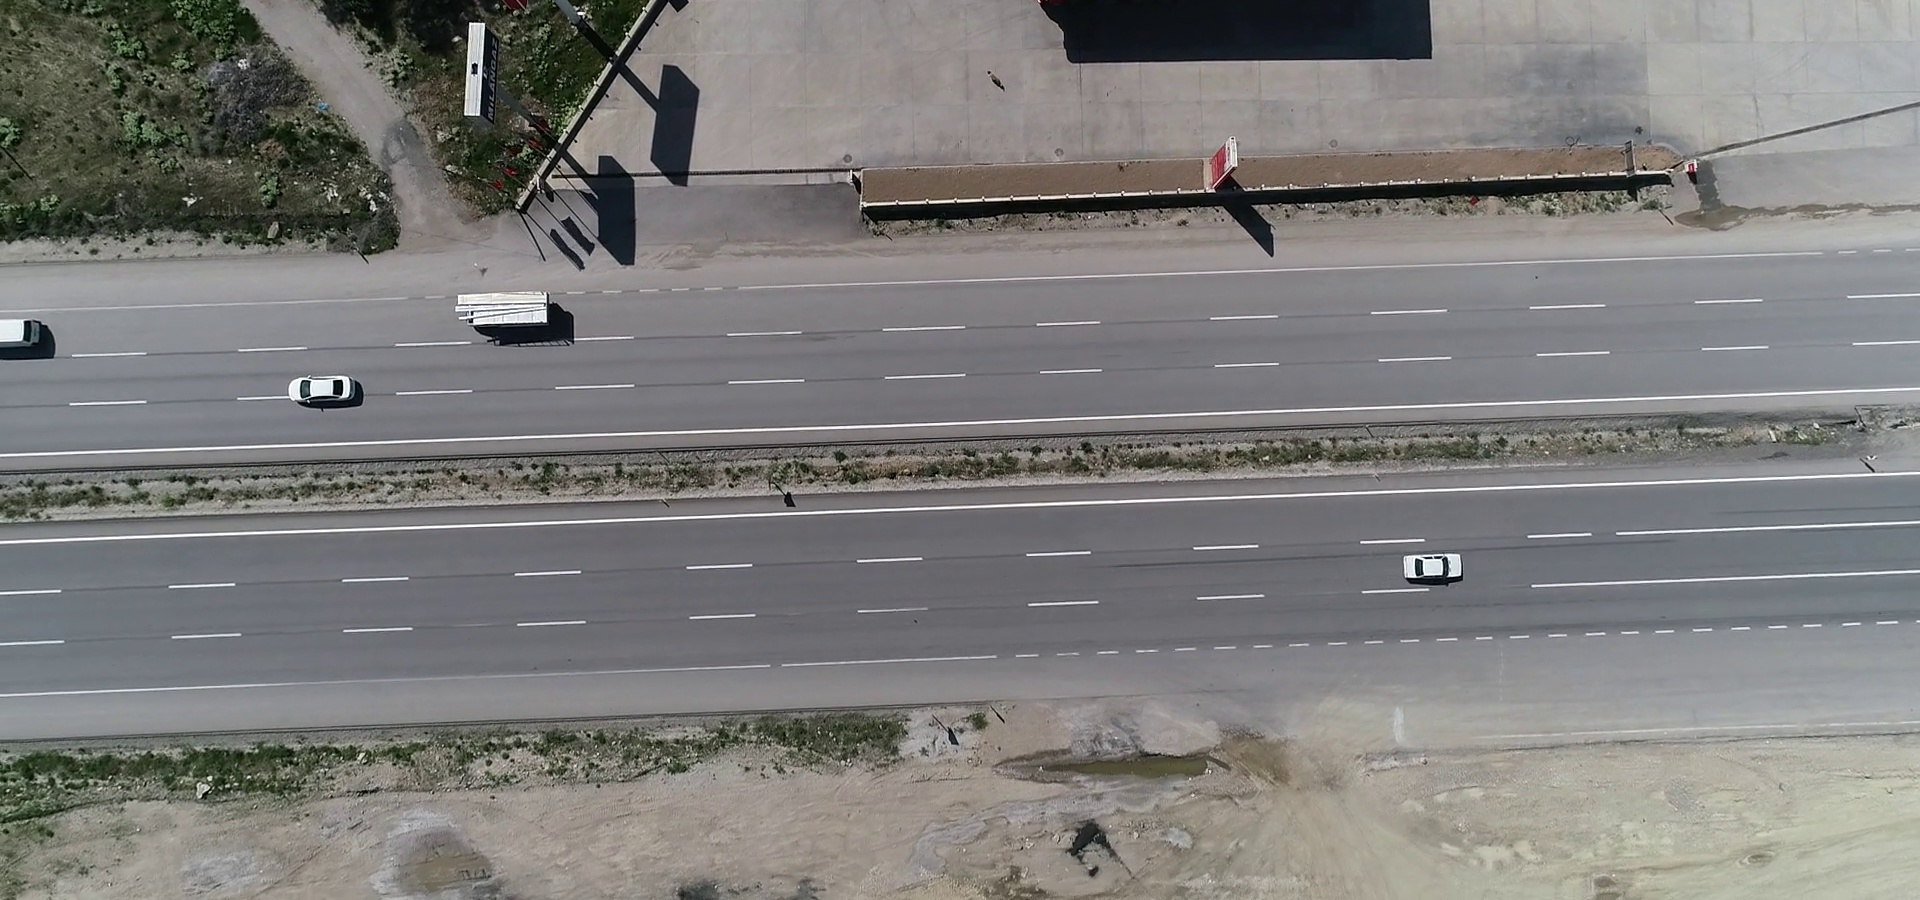araba: (285, 371, 362, 410), (1396, 545, 1471, 580), (1, 312, 51, 360)
